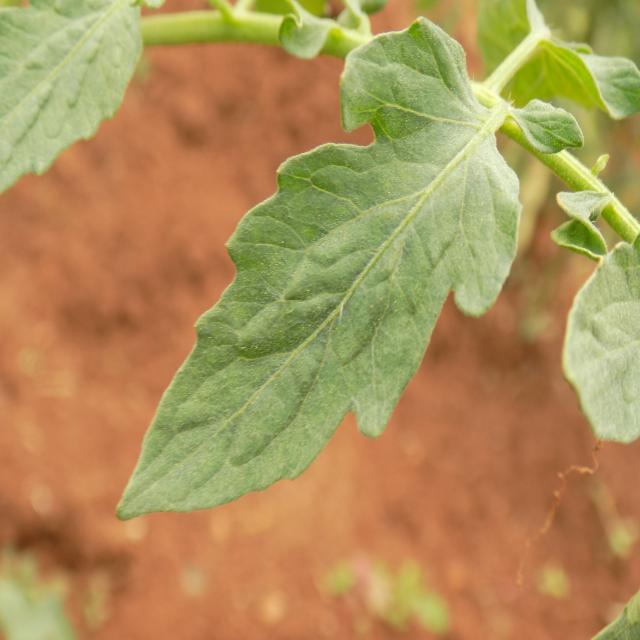tomato_healthy: (119, 20, 523, 538)
